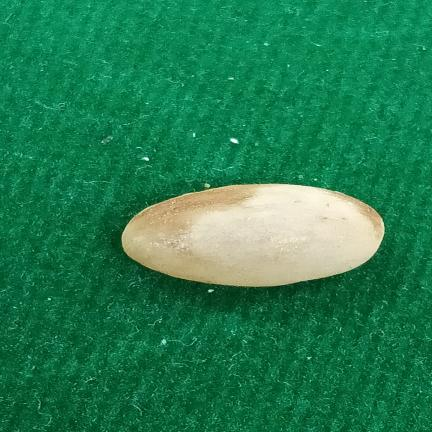parchment: (121, 184, 384, 287)
